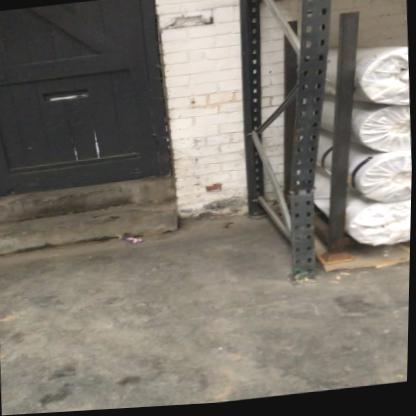vertical_damage: (276, 161, 333, 217)
